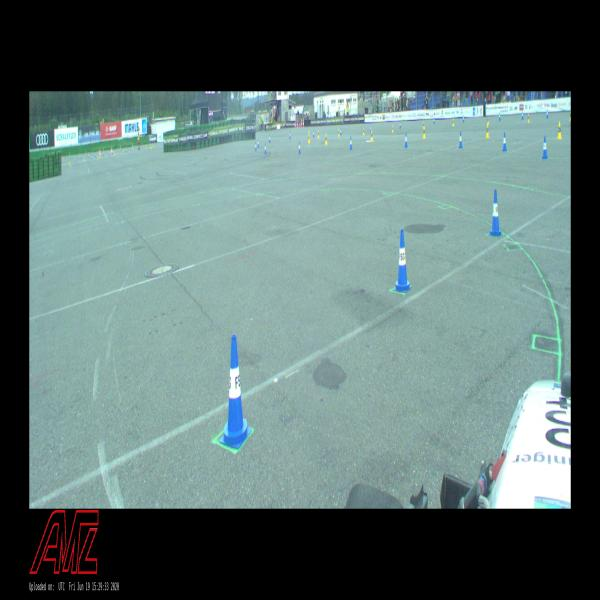blue_cone: (220, 334, 252, 448), (393, 230, 412, 292), (488, 190, 503, 235), (542, 136, 548, 158), (502, 132, 507, 150), (458, 131, 462, 148), (404, 133, 408, 147), (298, 142, 301, 153), (264, 143, 267, 154), (350, 137, 352, 149), (498, 112, 501, 120), (269, 134, 271, 143), (289, 131, 291, 139), (257, 139, 259, 147), (546, 110, 548, 118), (522, 112, 524, 120), (313, 130, 315, 137), (433, 117, 435, 124), (370, 125, 372, 132), (399, 122, 401, 128), (255, 142, 256, 150), (463, 115, 464, 122), (340, 129, 341, 135)
yellow_cone: (557, 122, 562, 139), (486, 124, 490, 138), (308, 131, 310, 144), (423, 125, 425, 138), (371, 130, 373, 141), (325, 134, 327, 144), (487, 116, 489, 125), (528, 114, 530, 123), (569, 112, 571, 121), (338, 129, 340, 137), (318, 130, 320, 138), (452, 119, 454, 126), (423, 122, 425, 128), (363, 128, 364, 135), (392, 126, 393, 132)
